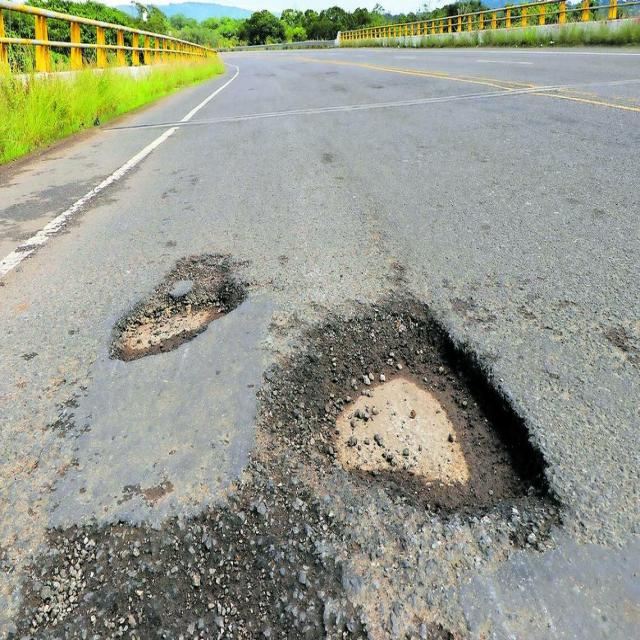Pothole: (281, 277, 571, 602), (92, 210, 288, 380)
